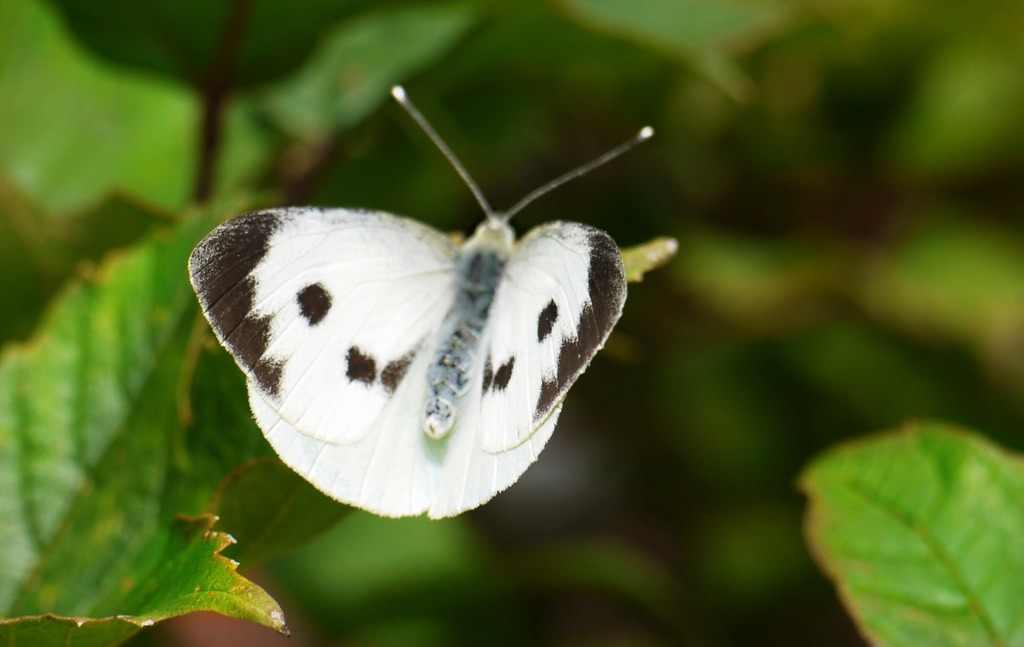Butterfly: (163, 129, 656, 533)
